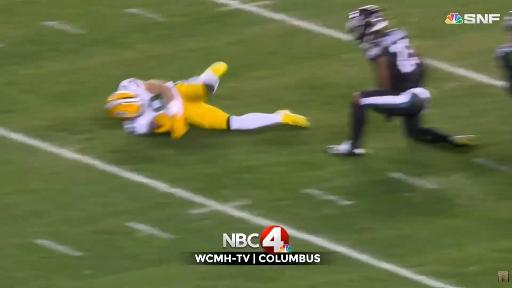Helmet: (346, 6, 388, 44), (105, 91, 143, 119), (504, 11, 511, 32)
Jersey: (366, 29, 423, 93), (119, 78, 166, 134), (496, 44, 511, 93)
Player: (328, 6, 473, 155), (106, 62, 309, 138), (496, 11, 511, 93)
